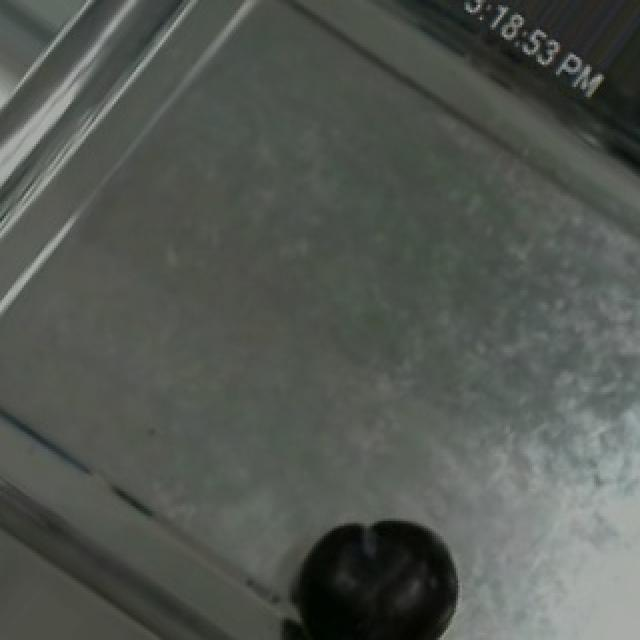Fruit: (282, 501, 466, 640)
